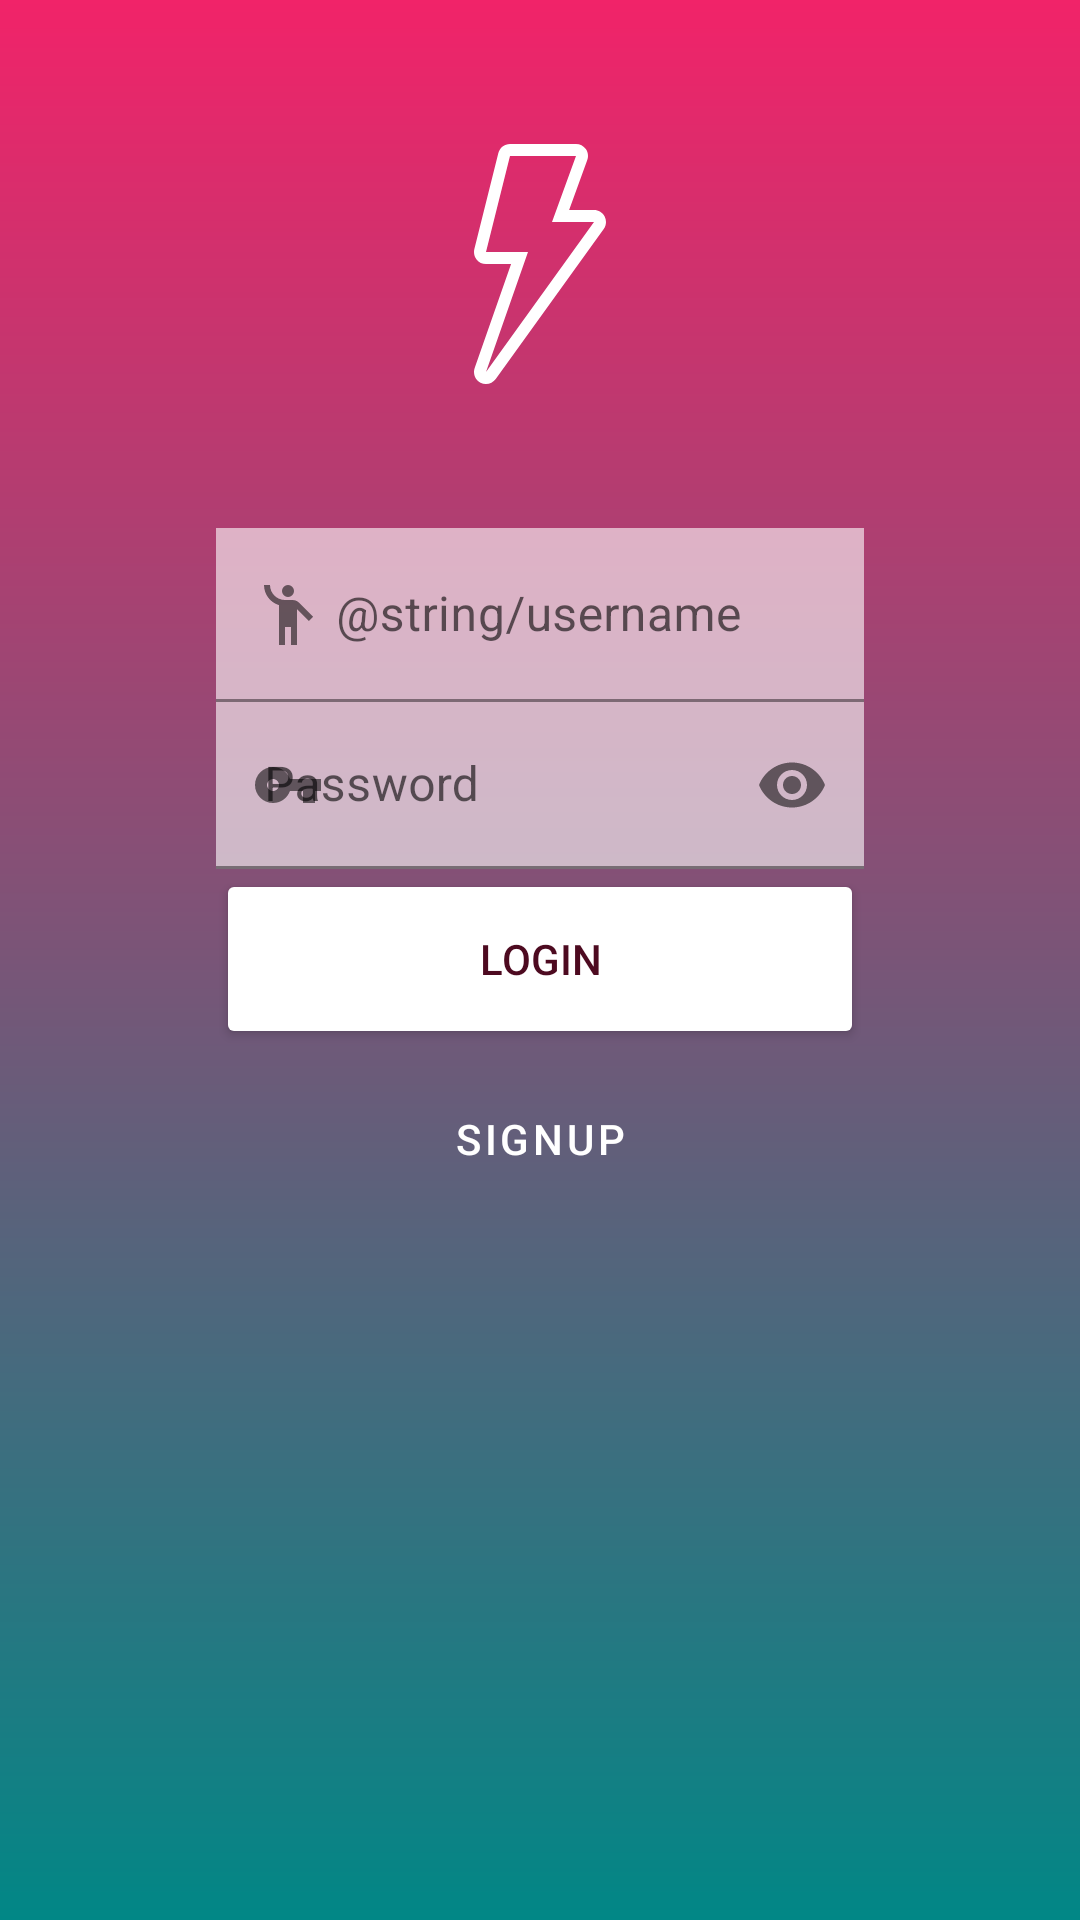

Icons on this 1080*1920 Android screen, each with the point to tap as (x=x, y=y):
thunder: (x=540, y=264)
